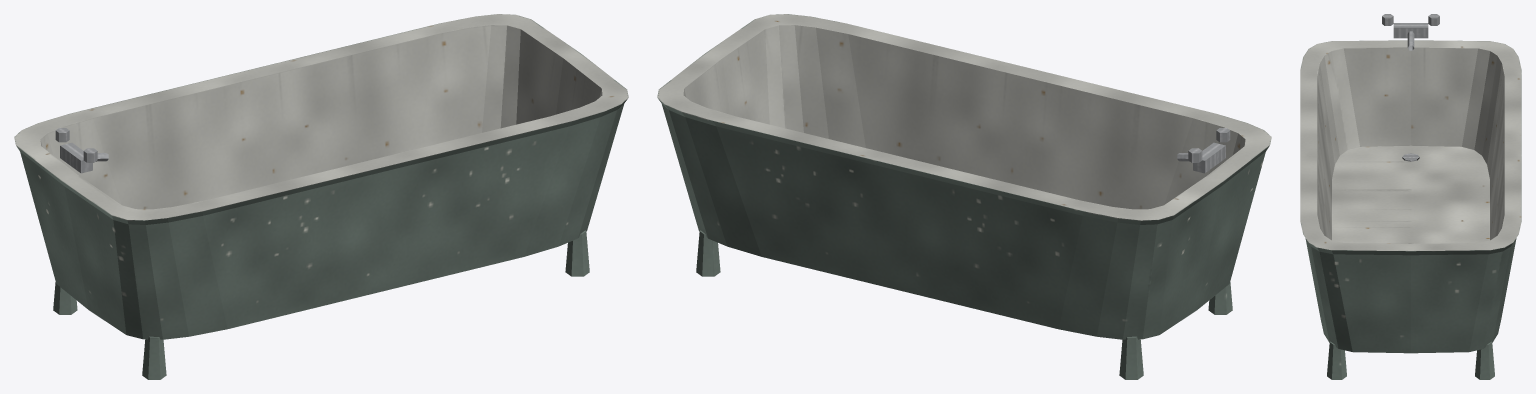
The model's file is Bathtub.fbx.
The picture shows the model from 3 angles, left to right: view 1: azimuth 30°, elevation 25°; view 2: azimuth 150°, elevation 25°; view 3: azimuth 270°, elevation 25°; orthographic projection. The views are drawn at different scales.
Visible parts, largest first — view 1: ванна; view 2: ванна; view 3: ванна.
Part boxes in pixels (x1,y1,x2,y2): ванна: (14,14,628,379); ванна: (657,14,1271,379); ванна: (1300,14,1521,379).
Bounding box in the file's own units: 1.72 × 0.665 × 0.7634.
Materials: 1 (1 with a texture image).
